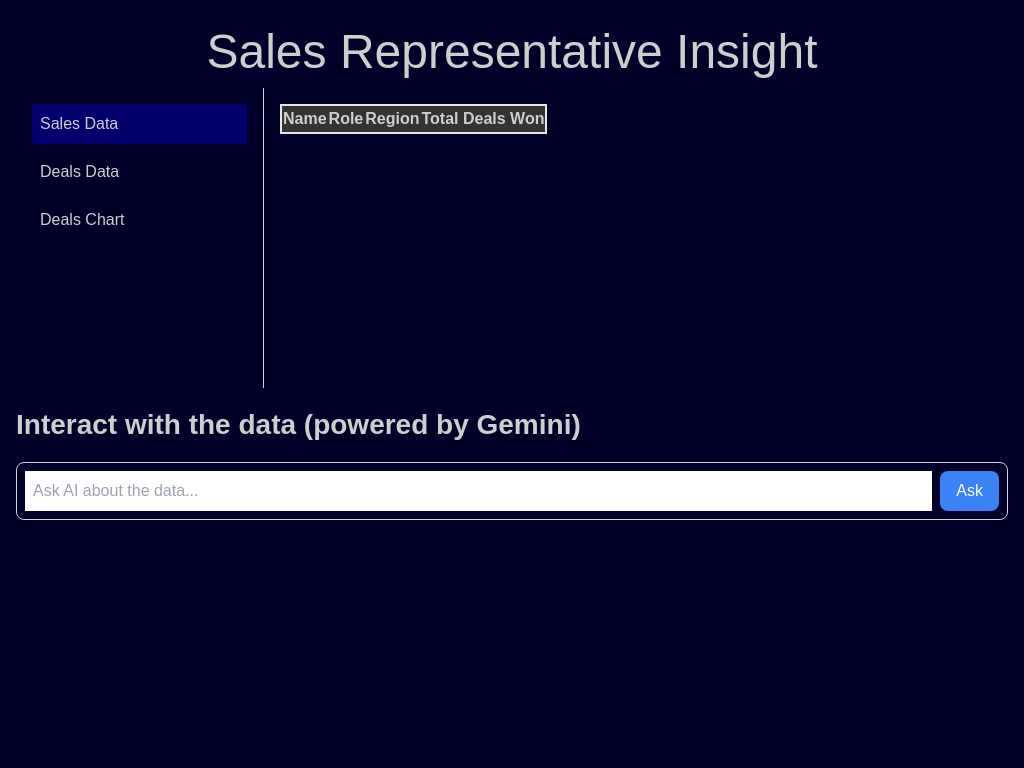
Test: Home Component › handles AI question and response
The image size is (1024, 768).
Step 1. Type "What is the total sales?" into the field with placeholder "Ask AI about the data..." → (479, 491), box top-left (25, 471), bottom-right (932, 511)
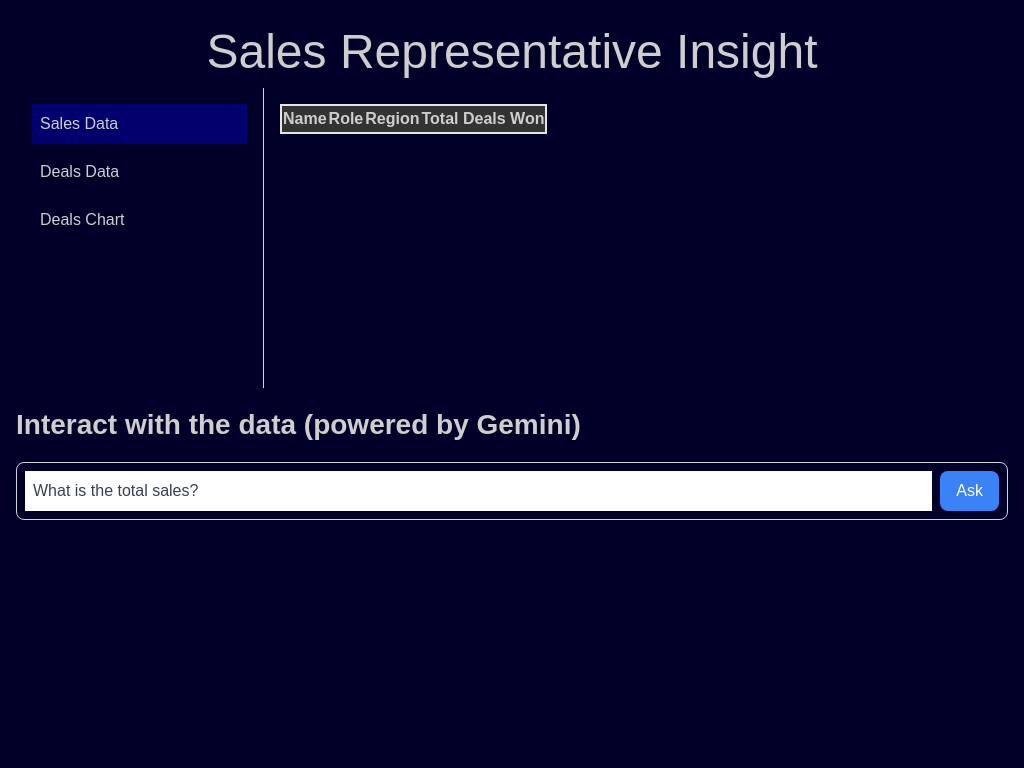
Step 2. Click the button "Ask" → (970, 491), box top-left (940, 471), bottom-right (999, 511)
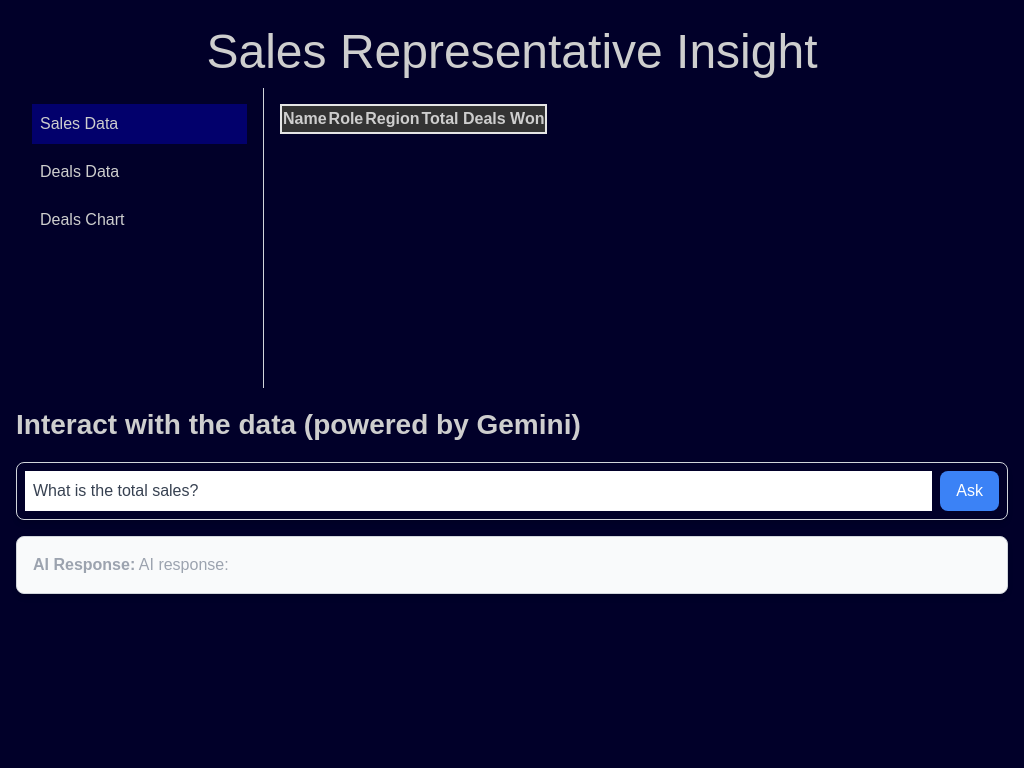
Expected: the text "AI Response:" is shown, top-left (33, 556), bottom-right (135, 573)
